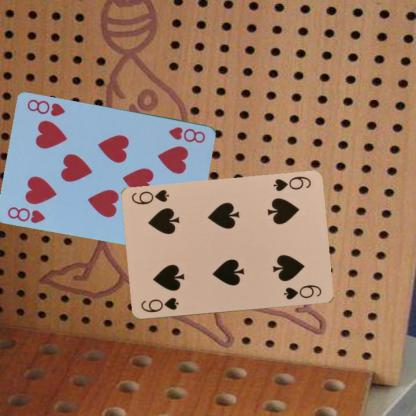6s: (138, 294, 180, 314), (270, 174, 312, 193)
8h: (5, 203, 47, 224), (166, 124, 207, 145)
